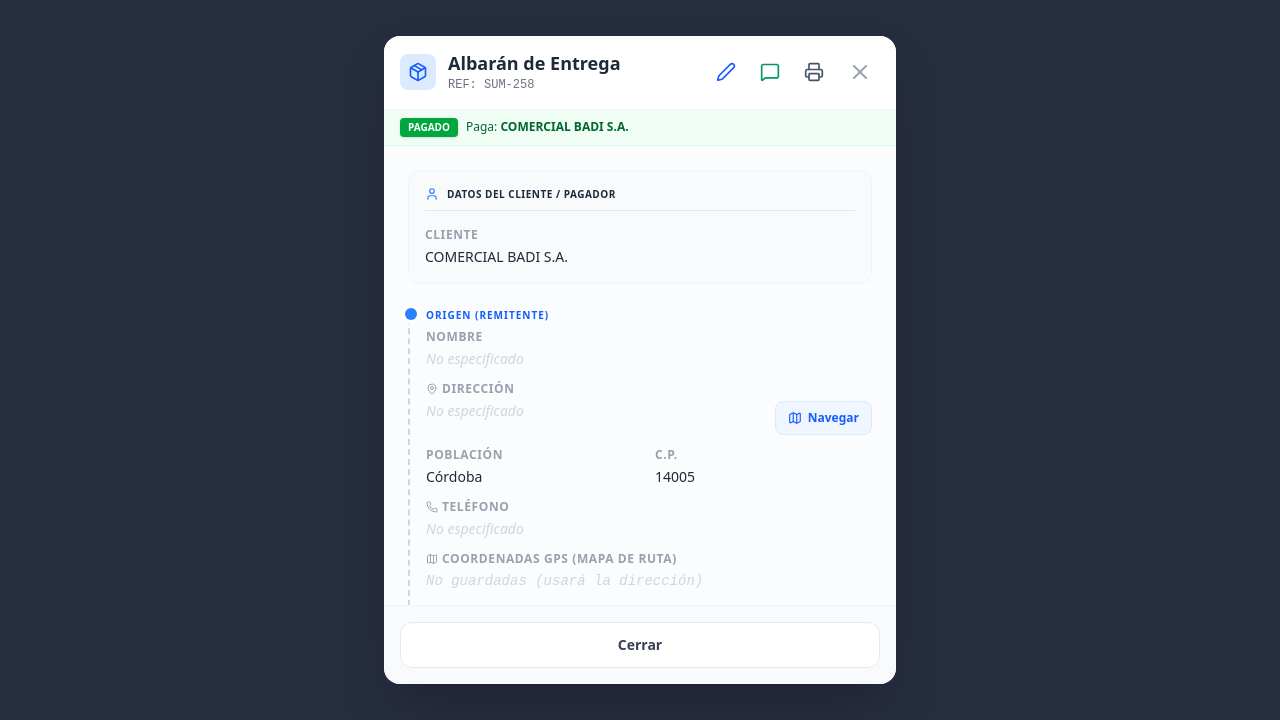
ShipmentDetailsModal: el precio al editar › cambiar el destino a un pueblo de Baremo 1 baja al precio base, y volver a Baremo 2 lo devuelve
Click the button titled "Editar": [726, 72] box x1=708 y1=54 x2=744 y2=90
(page scrolled)
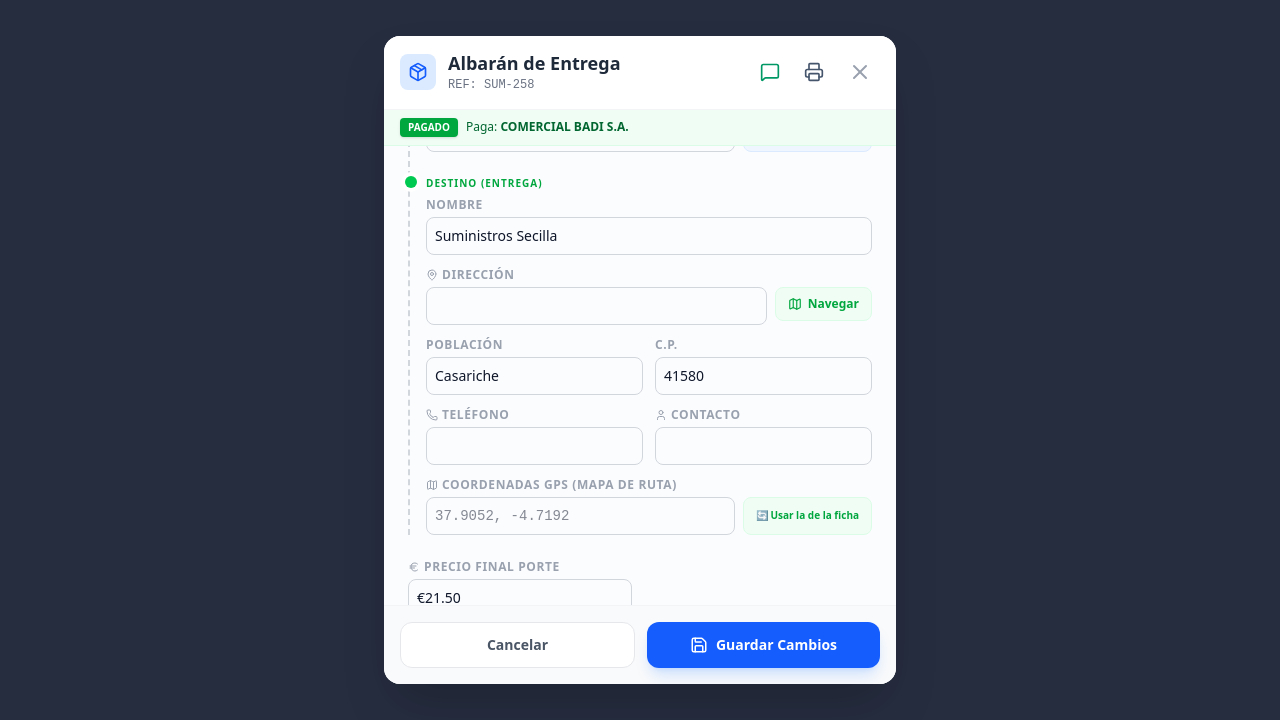
Replace the text in the field showing "41580" below "C.P." with "14940": [764, 376] box x1=655 y1=356 x2=872 y2=394
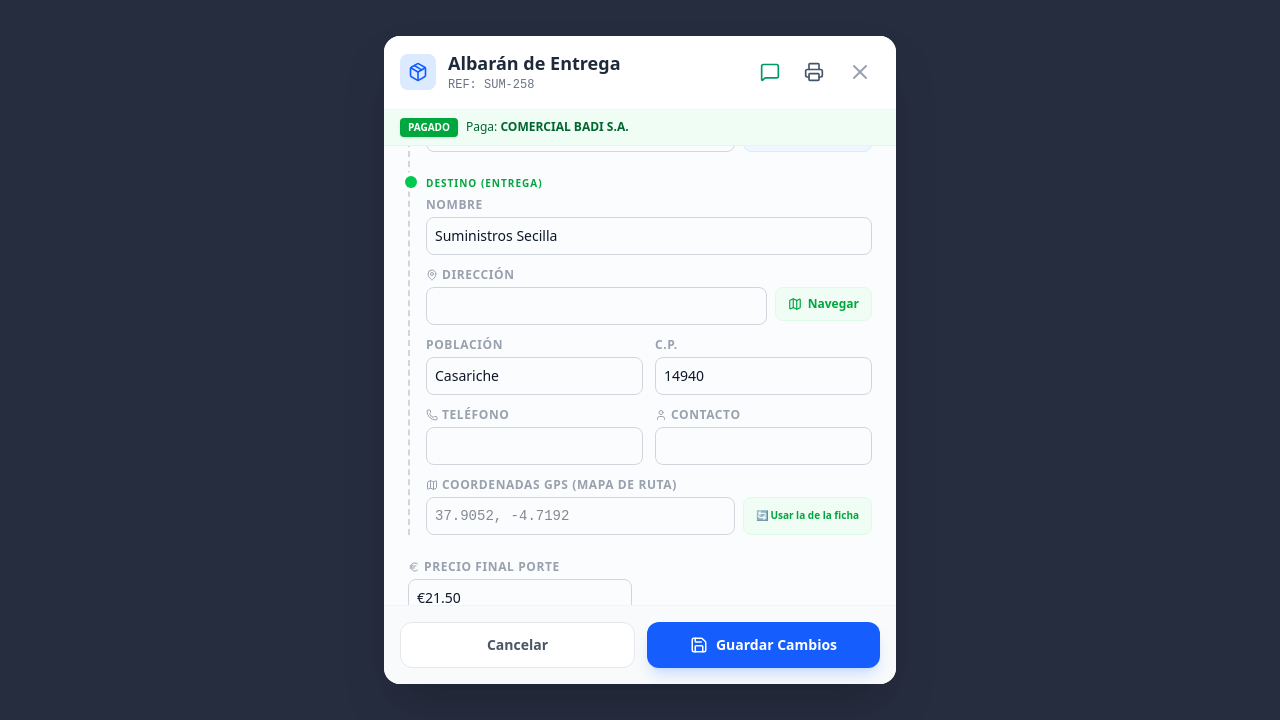
Replace the text in the field showing "Casariche" below "Población" with "Cabra": [534, 376] box x1=426 y1=356 x2=643 y2=394
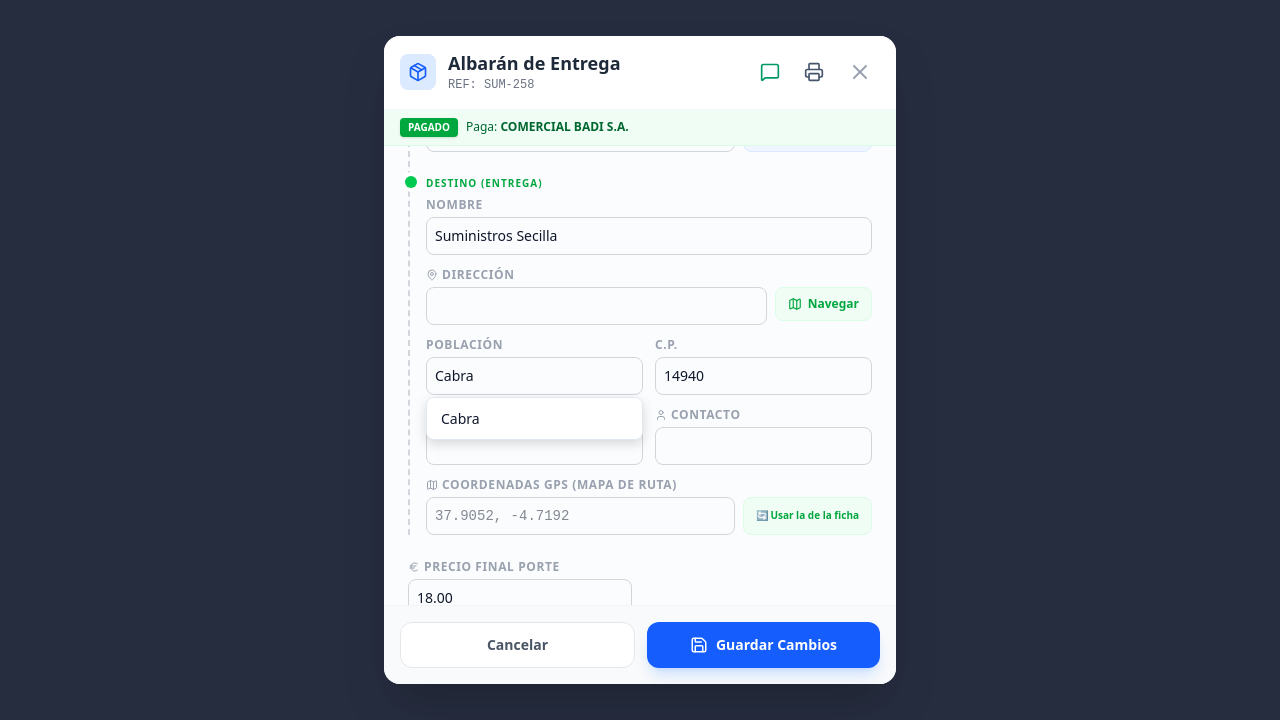
Expected: the field showing "18.00" below "Precio Final Porte" is shown, x1=408 y1=578 x2=632 y2=605
Replace the text in the field showing "14940" below "C.P." with "41580": [764, 376] box x1=655 y1=356 x2=872 y2=394
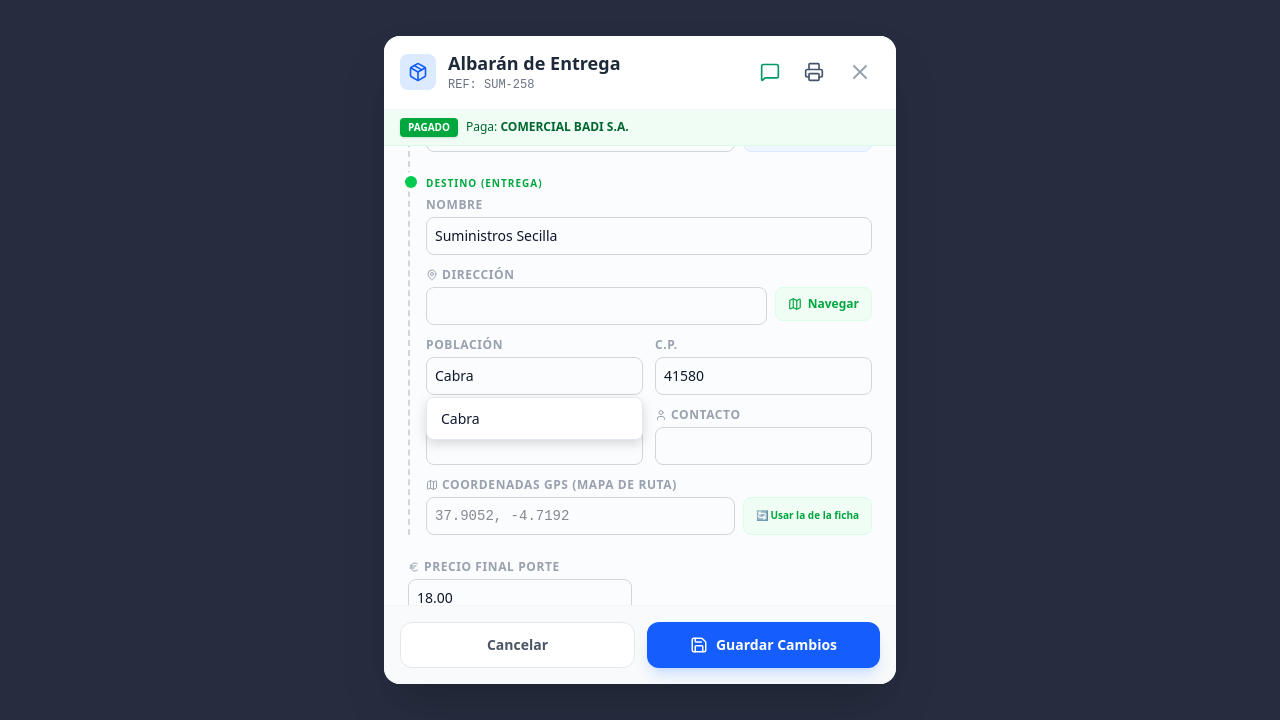
Replace the text in the field showing "Cabra" below "Población" with "Casariche": [534, 376] box x1=426 y1=356 x2=643 y2=394
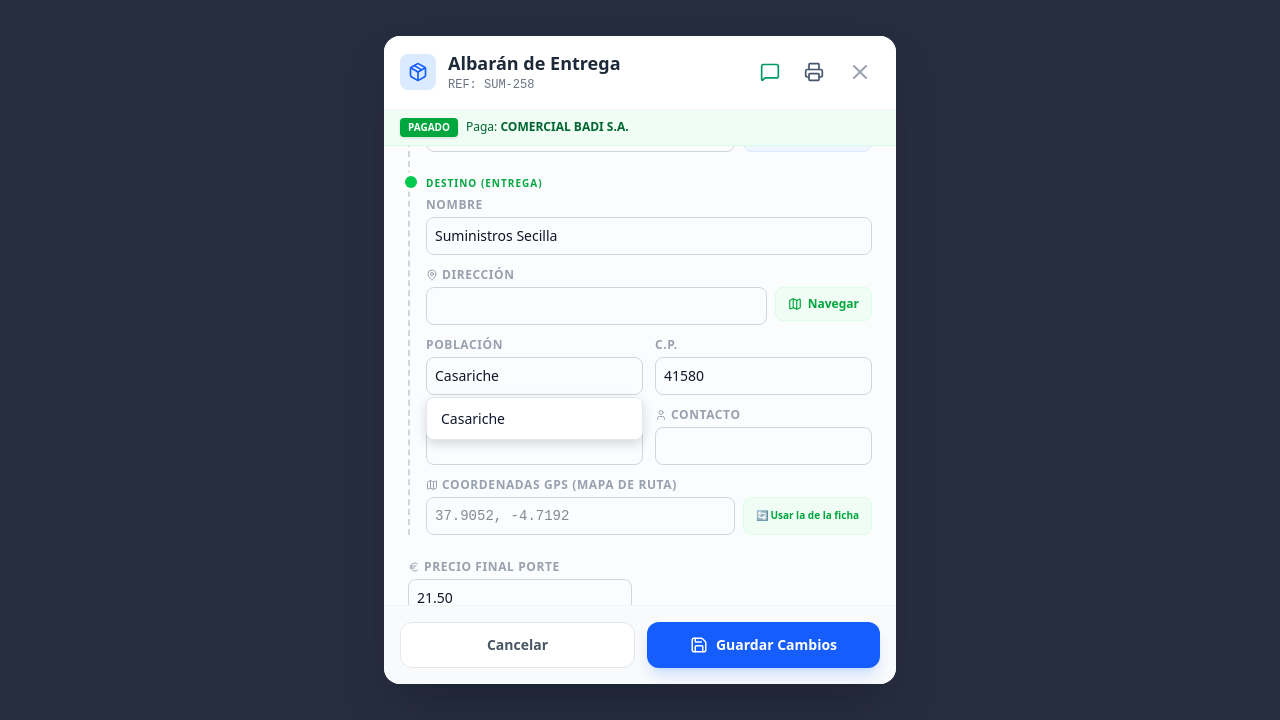
Expected: the field showing "21.50" below "Precio Final Porte" is shown, x1=408 y1=578 x2=632 y2=605
